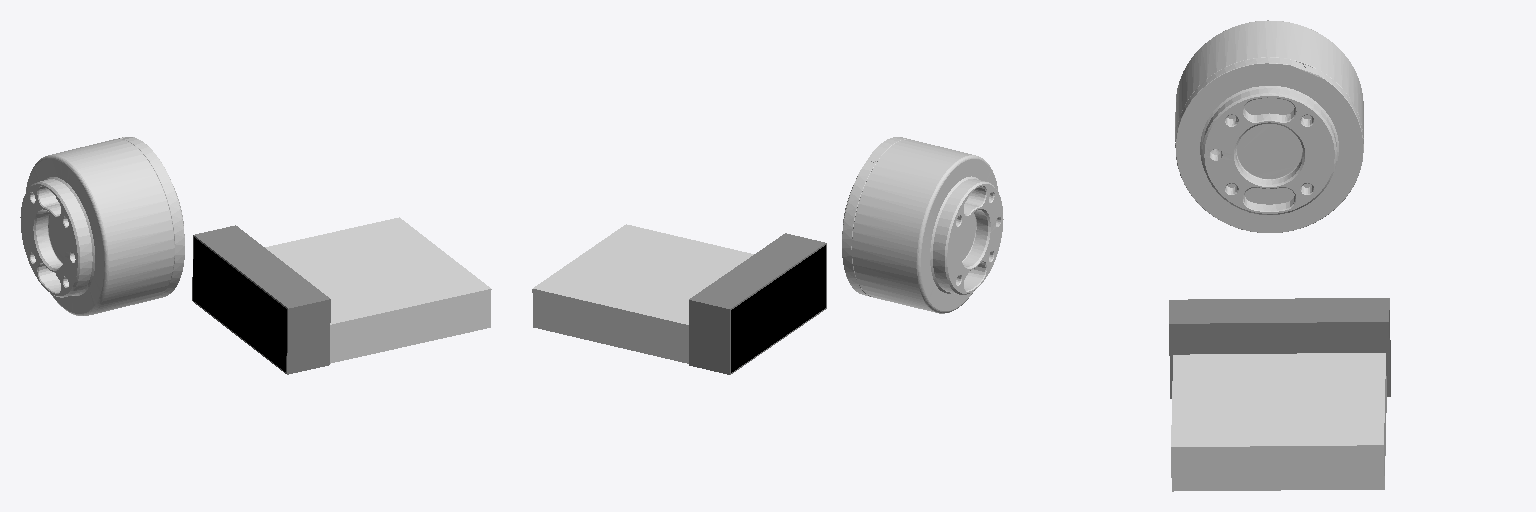
URDF robot description (panda_kinect):
<?xml version="1.0" encoding="utf-8"?>
<!-- =================================================================================== -->
<!-- |    This document was autogenerated by xacro from panda_azure_kinect.urdf.xacro  | -->
<!-- |    EDITING THIS FILE BY HAND IS NOT RECOMMENDED                                 | -->
<!-- =================================================================================== -->
<robot name="panda_kinect">
  <!-- THE ROBOT -->
  <link name="panda_link0">
    <visual>
      <geometry>
        <mesh filename="package://franka_description/meshes/visual/link0.dae"/>
      </geometry>
    </visual>
    <collision>
      <geometry>
        <mesh filename="package://franka_description/meshes/collision/link0.stl"/>
      </geometry>
    </collision>
  </link>
  <link name="panda_link1">
    <visual>
      <geometry>
        <mesh filename="package://franka_description/meshes/visual/link1.dae"/>
      </geometry>
    </visual>
    <collision>
      <geometry>
        <mesh filename="package://franka_description/meshes/collision/link1.stl"/>
      </geometry>
    </collision>
  </link>
  <joint name="panda_joint1" type="revolute">
    <safety_controller k_position="100.0" k_velocity="40.0" soft_lower_limit="-2.8973" soft_upper_limit="2.8973"/>
    <origin rpy="0 0 0" xyz="0 0 0.333"/>
    <parent link="panda_link0"/>
    <child link="panda_link1"/>
    <axis xyz="0 0 1"/>
    <limit effort="87" lower="-2.8973" upper="2.8973" velocity="2.1750"/>
  </joint>
  <link name="panda_link2">
    <visual>
      <geometry>
        <mesh filename="package://franka_description/meshes/visual/link2.dae"/>
      </geometry>
    </visual>
    <collision>
      <geometry>
        <mesh filename="package://franka_description/meshes/collision/link2.stl"/>
      </geometry>
    </collision>
  </link>
  <joint name="panda_joint2" type="revolute">
    <safety_controller k_position="100.0" k_velocity="40.0" soft_lower_limit="-1.7628" soft_upper_limit="1.7628"/>
    <origin rpy="-1.57079632679 0 0" xyz="0 0 0"/>
    <parent link="panda_link1"/>
    <child link="panda_link2"/>
    <axis xyz="0 0 1"/>
    <limit effort="87" lower="-1.7628" upper="1.7628" velocity="2.1750"/>
  </joint>
  <link name="panda_link3">
    <visual>
      <geometry>
        <mesh filename="package://franka_description/meshes/visual/link3.dae"/>
      </geometry>
    </visual>
    <collision>
      <geometry>
        <mesh filename="package://franka_description/meshes/collision/link3.stl"/>
      </geometry>
    </collision>
  </link>
  <joint name="panda_joint3" type="revolute">
    <safety_controller k_position="100.0" k_velocity="40.0" soft_lower_limit="-2.8973" soft_upper_limit="2.8973"/>
    <origin rpy="1.57079632679 0 0" xyz="0 -0.316 0"/>
    <parent link="panda_link2"/>
    <child link="panda_link3"/>
    <axis xyz="0 0 1"/>
    <limit effort="87" lower="-2.8973" upper="2.8973" velocity="2.1750"/>
  </joint>
  <link name="panda_link4">
    <visual>
      <geometry>
        <mesh filename="package://franka_description/meshes/visual/link4.dae"/>
      </geometry>
    </visual>
    <collision>
      <geometry>
        <mesh filename="package://franka_description/meshes/collision/link4.stl"/>
      </geometry>
    </collision>
  </link>
  <joint name="panda_joint4" type="revolute">
    <safety_controller k_position="100.0" k_velocity="40.0" soft_lower_limit="-3.0718" soft_upper_limit="-0.0698"/>
    <origin rpy="1.57079632679 0 0" xyz="0.0825 0 0"/>
    <parent link="panda_link3"/>
    <child link="panda_link4"/>
    <axis xyz="0 0 1"/>
    <limit effort="87" lower="-3.0718" upper="-0.0698" velocity="2.1750"/>
  </joint>
  <link name="panda_link5">
    <visual>
      <geometry>
        <mesh filename="package://franka_description/meshes/visual/link5.dae"/>
      </geometry>
    </visual>
    <collision>
      <geometry>
        <mesh filename="package://franka_description/meshes/collision/link5.stl"/>
      </geometry>
    </collision>
  </link>
  <joint name="panda_joint5" type="revolute">
    <safety_controller k_position="100.0" k_velocity="40.0" soft_lower_limit="-2.8973" soft_upper_limit="2.8973"/>
    <origin rpy="-1.57079632679 0 0" xyz="-0.0825 0.384 0"/>
    <parent link="panda_link4"/>
    <child link="panda_link5"/>
    <axis xyz="0 0 1"/>
    <limit effort="12" lower="-2.8973" upper="2.8973" velocity="2.6100"/>
  </joint>
  <link name="panda_link6">
    <visual>
      <geometry>
        <mesh filename="package://franka_description/meshes/visual/link6.dae"/>
      </geometry>
    </visual>
    <collision>
      <geometry>
        <mesh filename="package://franka_description/meshes/collision/link6.stl"/>
      </geometry>
    </collision>
  </link>
  <joint name="panda_joint6" type="revolute">
    <safety_controller k_position="100.0" k_velocity="40.0" soft_lower_limit="-0.0175" soft_upper_limit="3.7525"/>
    <origin rpy="1.57079632679 0 0" xyz="0 0 0"/>
    <parent link="panda_link5"/>
    <child link="panda_link6"/>
    <axis xyz="0 0 1"/>
    <limit effort="12" lower="-0.0175" upper="3.7525" velocity="2.6100"/>
  </joint>
  <link name="panda_link7">
    <visual>
      <geometry>
        <mesh filename="package://franka_description/meshes/visual/link7.dae"/>
      </geometry>
    </visual>
    <collision>
      <geometry>
        <mesh filename="package://franka_description/meshes/collision/link7.stl"/>
      </geometry>
    </collision>
  </link>
  <joint name="panda_joint7" type="revolute">
    <safety_controller k_position="100.0" k_velocity="40.0" soft_lower_limit="-2.8973" soft_upper_limit="2.8973"/>
    <origin rpy="1.57079632679 0 0" xyz="0.088 0 0"/>
    <parent link="panda_link6"/>
    <child link="panda_link7"/>
    <axis xyz="0 0 1"/>
    <limit effort="12" lower="-2.8973" upper="2.8973" velocity="2.6100"/>
  </joint>
  <link name="ft_sensor_link">
    <visual>
      <geometry>
        <mesh filename="package://authoring/meshes/force_torque_sensor.dae"/>
      </geometry>
    </visual>
    <collision>
      <geometry>
        <mesh filename="package://authoring/meshes/force_torque_sensor.stl"/>
      </geometry>
    </collision>
  </link>
  <joint name="ft_sensor_joint" type="fixed">
    <origin rpy="0 0 0" xyz="0 0 0.062"/>
    <parent link="panda_link7"/>
    <child link="ft_sensor_link"/>
    <axis xyz="0 0 0"/>
  </joint>
  <link name="panda_link8"/>
  <joint name="panda_joint8" type="fixed">
    <!--<origin rpy="0 0 0" xyz="0 0 0.107"/>-->
    <origin rpy="0 0 0" xyz="0 0 0.11"/>
    <!--Added offset for FT sensor-->
    <parent link="ft_sensor_link"/>
    <child link="panda_link8"/>
    <axis xyz="0 0 0"/>
  </joint>
  <joint name="panda_hand_joint" type="fixed">
    <parent link="panda_link8"/>
    <child link="panda_hand"/>
    <origin rpy="0 0 -0.785398163397" xyz="0 0 0"/>
  </joint>
  <link name="panda_hand">
    <visual>
      <geometry>
        <mesh filename="package://franka_description/meshes/visual/hand.dae"/>
      </geometry>
    </visual>
    <collision>
      <geometry>
        <mesh filename="package://franka_description/meshes/collision/hand.stl"/>
      </geometry>
    </collision>
  </link>
  <link name="panda_leftfinger">
    <visual>
      <geometry>
        <mesh filename="package://franka_description/meshes/visual/finger.dae"/>
      </geometry>
    </visual>
    <collision>
      <geometry>
        <mesh filename="package://franka_description/meshes/collision/finger.stl"/>
      </geometry>
    </collision>
  </link>
  <link name="panda_rightfinger">
    <visual>
      <origin rpy="0 0 3.14159265359" xyz="0 0 0"/>
      <geometry>
        <mesh filename="package://franka_description/meshes/visual/finger.dae"/>
      </geometry>
    </visual>
    <collision>
      <origin rpy="0 0 3.14159265359" xyz="0 0 0"/>
      <geometry>
        <mesh filename="package://franka_description/meshes/collision/finger.stl"/>
      </geometry>
    </collision>
  </link>
  <joint name="panda_finger_joint1" type="prismatic">
    <parent link="panda_hand"/>
    <child link="panda_leftfinger"/>
    <origin rpy="0 0 0" xyz="0 0 0.0584"/>
    <axis xyz="0 1 0"/>
    <limit effort="20" lower="0.0" upper="0.04" velocity="0.2"/>
  </joint>
  <joint name="panda_finger_joint2" type="prismatic">
    <parent link="panda_hand"/>
    <child link="panda_rightfinger"/>
    <origin rpy="0 0 0" xyz="0 0 0.0584"/>
    <axis xyz="0 -1 0"/>
    <limit effort="20" lower="0.0" upper="0.04" velocity="0.2"/>
    <mimic joint="panda_finger_joint1"/>
  </joint>
  <link name="end_effector"/>
  <joint name="end_effector" type="fixed">
    <origin rpy="-0.000 0.000 -0.785" xyz="-0.000 -0.000 0.103"/>
    <parent link="panda_link8"/>
    <child link="end_effector"/>
    <axis xyz="0 0 0"/>
  </joint>
  <material name="black">
    <color rgba="0. 0. 0. 1"/>
  </material>
  <material name="dark_grey">
    <color rgba="0.1 0.1 0.1 1"/>
  </material>
  <material name="grey">
    <color rgba="0.6 0.6 0.6 1"/>
  </material>
  <material name="white">
    <color rgba="0.9 0.9 0.9 1"/>
  </material>
  <link name="camera_body">
    <visual>
      <origin xyz="0. 0. 0."/>
      <geometry>
        <box size="0.0994 0.0996 0.023"/>
      </geometry>
      <material name="white"/>
    </visual>
  </link>
  <link name="camera_base">
    <visual>
      <origin xyz="-0.013 0. 0."/>
      <geometry>
        <box size="0.026 0.103 0.039"/>
      </geometry>
      <material name="grey"/>
    </visual>
  </link>
  <link name="camera_visor">
    <visual>
      <origin xyz="-0.0128 0. 0."/>
      <geometry>
        <box size="0.026 0.101 0.037"/>
      </geometry>
      <material name="black"/>
    </visual>
  </link>
  <joint name="fake_base" type="fixed">
    <parent link="panda_link6"/>
    <child link="camera_base"/>
    <!--<origin xyz="-0.032 0.038 0.031" rpy="-2.731 -1.517 -1.209" />-->
    <!--<origin xyz="-0.052 -0.008 -0.071" rpy="-1.553 -0.582 -1.587" />-->
    <!--<origin xyz="0.032 -0.064 0.053" rpy="-0.389 -1.554 2.542" />-->
    <origin rpy="-1.586 0.010 -1.585" xyz="0.156 -0.052 -0.005"/>
  </joint>
  <joint name="camera_base_to_body" type="fixed">
    <parent link="camera_base"/>
    <child link="camera_body"/>
    <origin rpy="0. 0. 0." xyz="-0.0757 0. 0.008"/>
  </joint>
  <joint name="camera_base_to_visor" type="fixed">
    <parent link="camera_base"/>
    <child link="camera_visor"/>
    <origin rpy="0. 0. 0." xyz="0. 0. 0."/>
  </joint>
  <!--<xacro:sensor_d435 parent="panda_link8">
		<origin xyz="-0.032 0.038 0.031" rpy="-2.731 -1.517 -1.209" />
	</xacro:sensor_d435>-->
</robot>

--- What the picture shows (computed from the rendered views, not written in the file) ---
The picture shows the robot from 3 angles, left to right: view 1: azimuth 30°, elevation 25°; view 2: azimuth 150°, elevation 25°; view 3: azimuth 270°, elevation 25°; orthographic projection.
Robot: panda_kinect — 17 links, 16 joints (7 revolute, 2 prismatic, 7 fixed); root link panda_link0; default pose: all joints at 0 but 1 set to mid-range because 0 is outside their limits (panda_joint4 = -1.57).
Visible links, largest first — view 1: ft_sensor_link, camera_body, camera_base, camera_visor; view 2: ft_sensor_link, camera_body, camera_base, camera_visor; view 3: ft_sensor_link, camera_body, camera_base.
Link boxes in pixels (left/top/right/bottom): ft_sensor_link: left=20, top=137, right=184, bottom=315; camera_body: left=265, top=217, right=491, bottom=363; camera_base: left=192, top=225, right=330, bottom=374; camera_visor: left=193, top=237, right=286, bottom=371; ft_sensor_link: left=842, top=137, right=1003, bottom=313; camera_body: left=532, top=224, right=753, bottom=363; camera_base: left=689, top=233, right=826, bottom=374; camera_visor: left=731, top=245, right=825, bottom=372; ft_sensor_link: left=1175, top=20, right=1363, bottom=232; camera_body: left=1171, top=353, right=1386, bottom=491; camera_base: left=1169, top=298, right=1390, bottom=398.
Bounding box of the posed robot: 0.2462 × 0.1038 × 0.1341 m (x, y, z).
Meshes: 11 distinct files referenced, 1 mesh visuals loaded (1 Collada DAE); not drawn: 11 (reference not matched to a file when rendering).